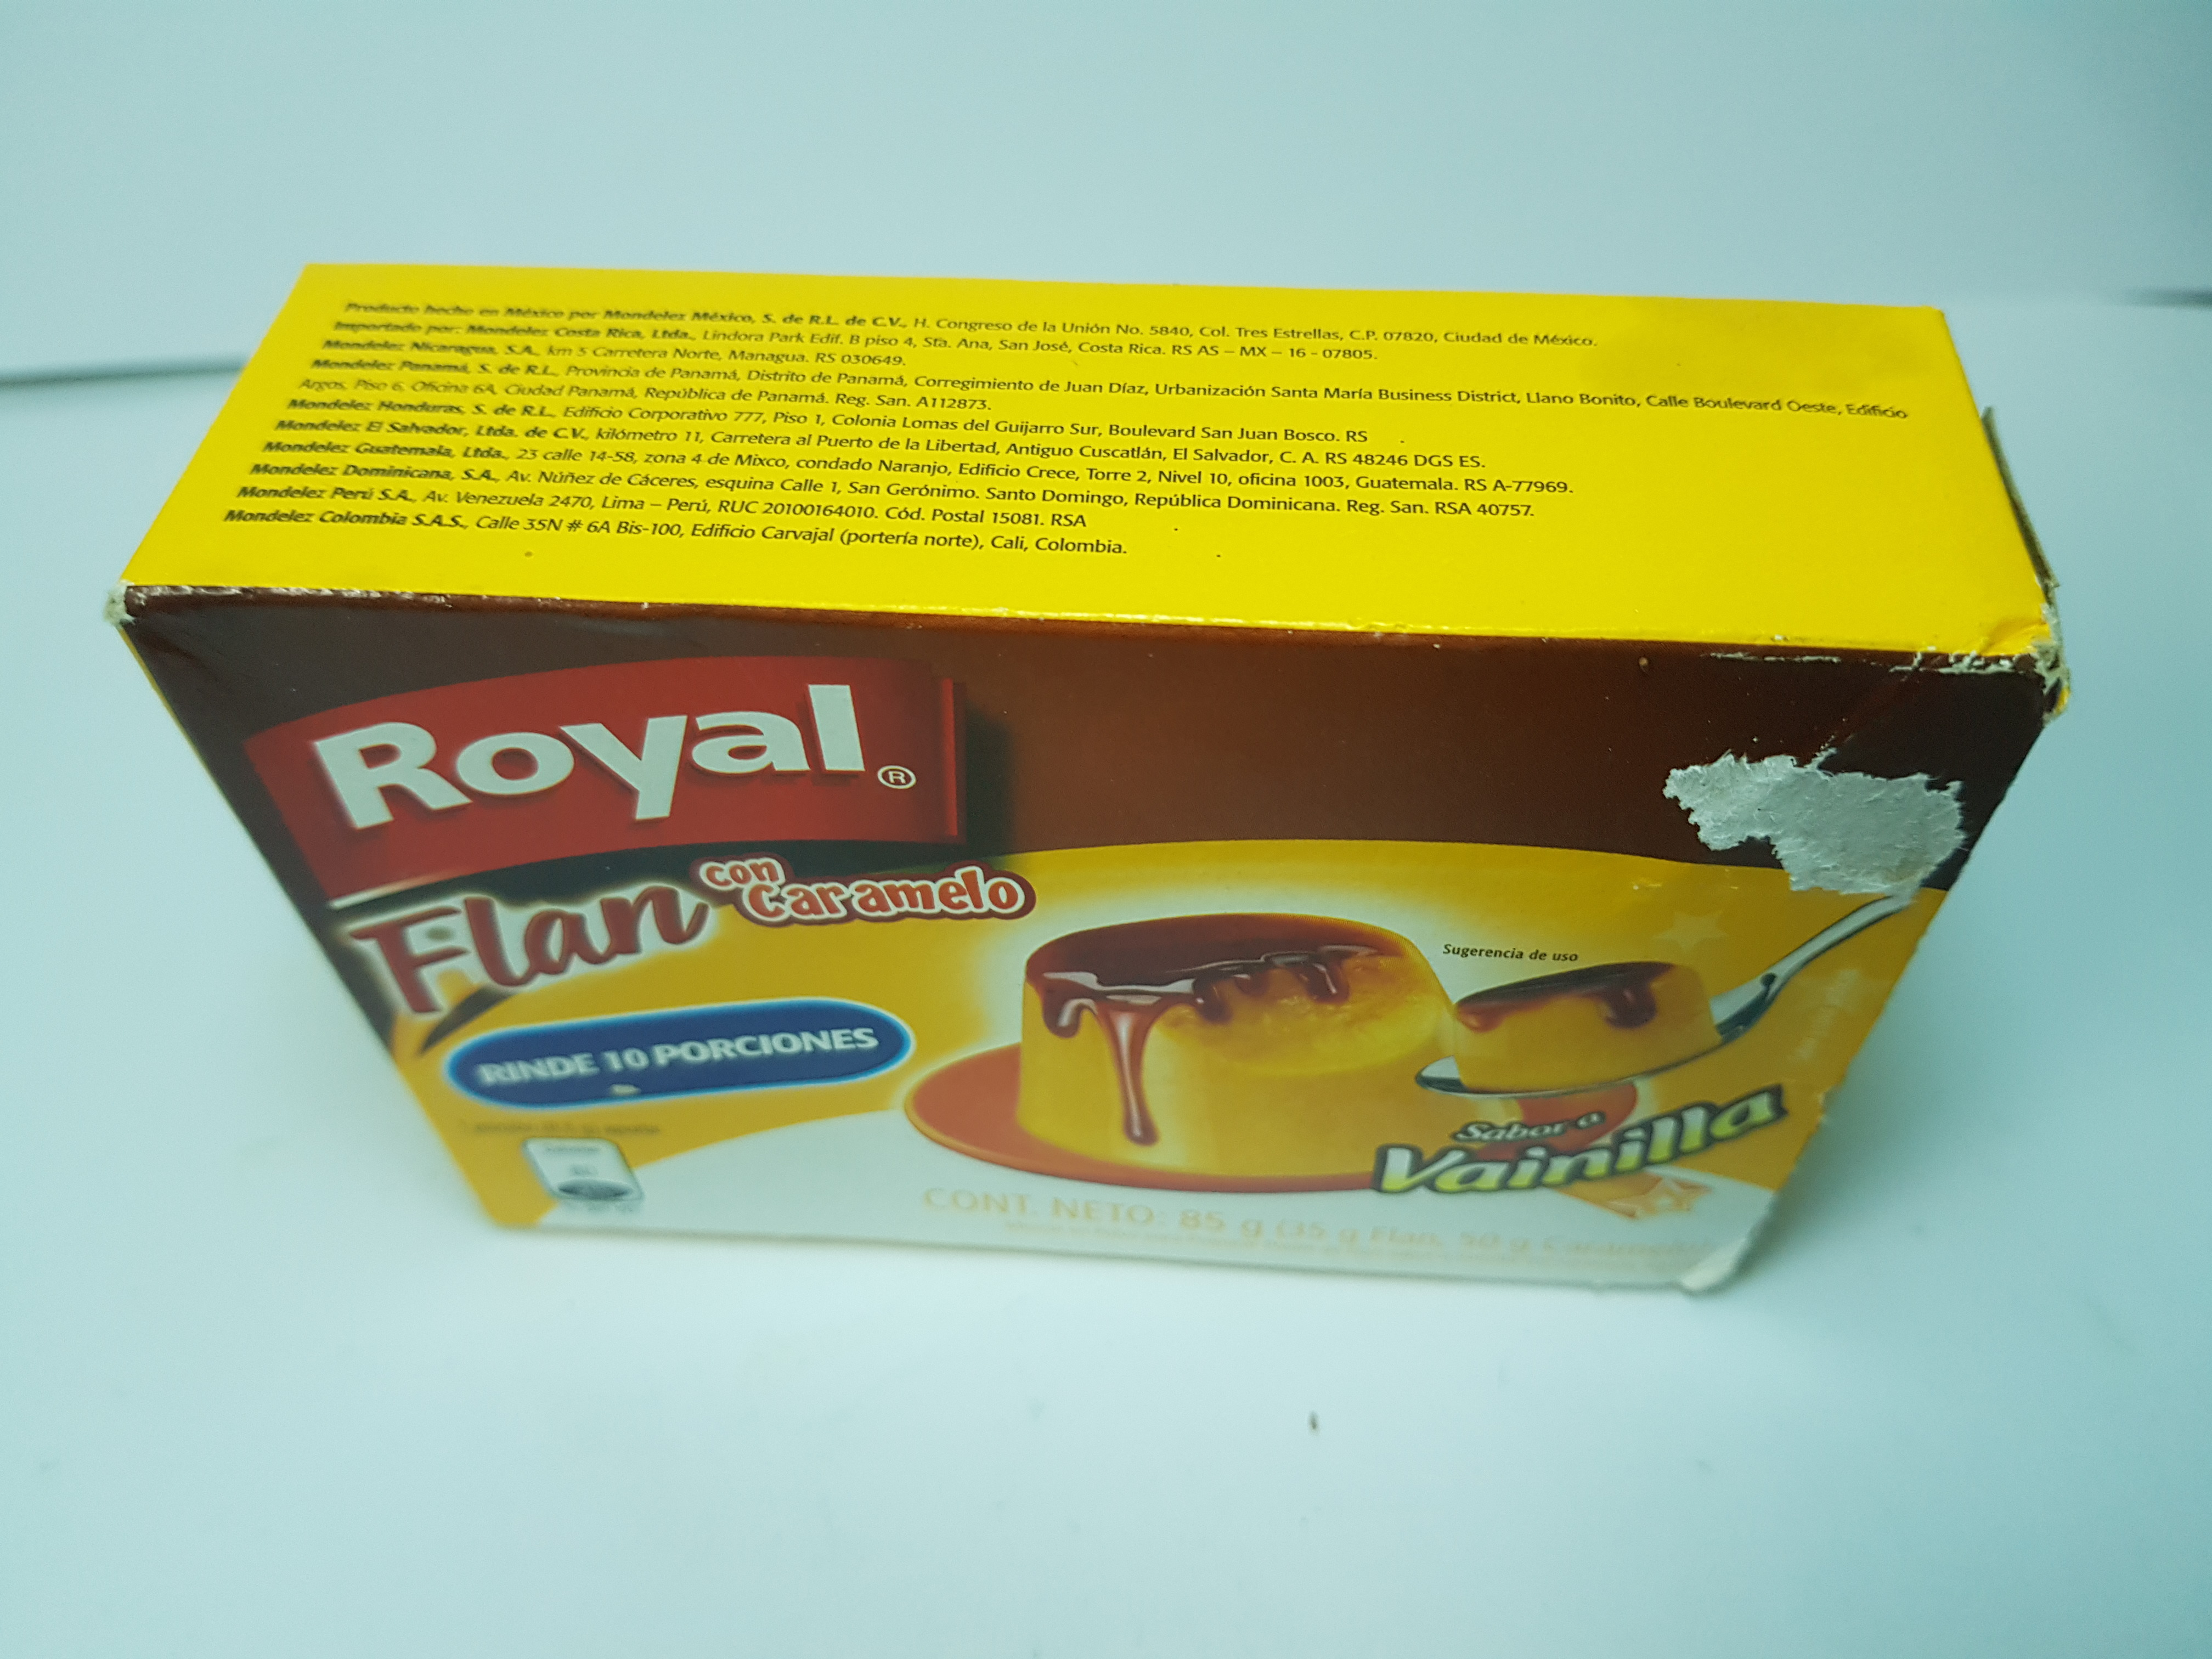flan: (49, 230, 2116, 1312)
